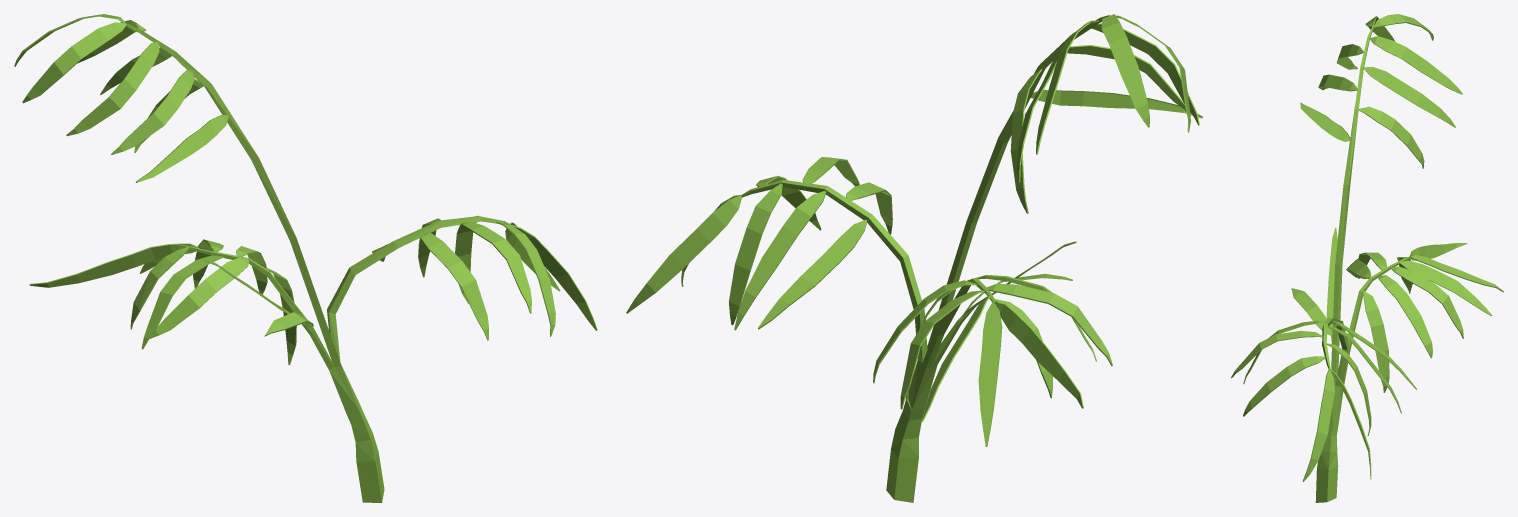
The model's file is fernplant.glb.
3 renders of one model, left to right at view 1: azimuth 30°, elevation 25°; view 2: azimuth 150°, elevation 25°; view 3: azimuth 270°, elevation 25°, orthographic. The views are drawn at different scales.
Visible parts, largest first — view 1: group191746738, group535367623, group432660515, group928697611, group837450689, group1345636466, group1158689383, group2145352069, group50311005, group1261155474, group256259434, group167149249 (+3 smaller); view 2: group191746738, group948189515, group649434653, group1927955666, group2008995457, group1553806384, group2063027047, group1345636466, group2145352069, group1261155474, group304547616, group2129838671 (+8 smaller); view 3: group191746738, group1167492003, group2116458068, group256259434, group492173252, group543491446, group1374601292, group304547616, group167149249, group2129838671, group50311005, group2145352069 (+13 smaller).
Part boxes in pixels (left/top/right/bottom): group191746738: left=126, top=23, right=509, bottom=502; group535367623: left=66, top=41, right=159, bottom=136; group432660515: left=22, top=22, right=126, bottom=103; group928697611: left=150, top=257, right=249, bottom=338; group837450689: left=421, top=232, right=488, bottom=340; group1345636466: left=29, top=243, right=181, bottom=287; group1158689383: left=111, top=70, right=194, bottom=154; group2145352069: left=136, top=115, right=228, bottom=182; group50311005: left=461, top=221, right=531, bottom=313; group1261155474: left=141, top=255, right=224, bottom=349; group256259434: left=510, top=224, right=597, bottom=330; group167149249: left=496, top=222, right=555, bottom=336; group191746738: left=741, top=15, right=1110, bottom=502; group948189515: left=626, top=194, right=741, bottom=313; group649434653: left=734, top=191, right=826, bottom=330; group1927955666: left=729, top=183, right=782, bottom=325; group2008995457: left=758, top=219, right=867, bottom=329; group1553806384: left=978, top=302, right=1002, bottom=446; group2063027047: left=1101, top=14, right=1149, bottom=127; group1345636466: left=994, top=302, right=1083, bottom=408; group2145352069: left=1031, top=90, right=1202, bottom=118; group1261155474: left=987, top=283, right=1112, bottom=366; group304547616: left=900, top=290, right=984, bottom=409; group2129838671: left=1010, top=69, right=1041, bottom=213; group191746738: left=1315, top=26, right=1410, bottom=502; group1167492003: left=1363, top=67, right=1455, bottom=127; group2116458068: left=1369, top=36, right=1462, bottom=94; group256259434: left=1302, top=369, right=1334, bottom=481; group492173252: left=1363, top=291, right=1389, bottom=392; group543491446: left=1378, top=275, right=1432, bottom=358; group1374601292: left=1400, top=260, right=1492, bottom=315; group304547616: left=1390, top=266, right=1463, bottom=338; group167149249: left=1243, top=356, right=1325, bottom=416; group2129838671: left=1358, top=106, right=1424, bottom=168; group50311005: left=1231, top=330, right=1322, bottom=378; group2145352069: left=1300, top=102, right=1350, bottom=141.
Bounding box in the file's own units: 4.5 × 4.24 × 2.63.
